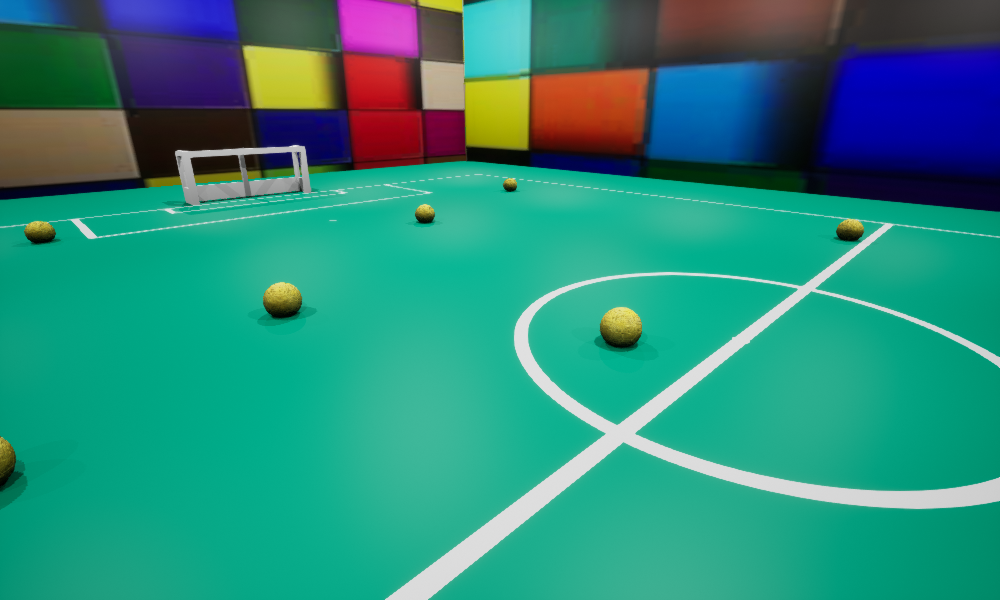b: (600, 307, 641, 347), (263, 282, 301, 316), (0, 436, 15, 486), (24, 221, 55, 242), (836, 219, 863, 240), (415, 204, 434, 222), (503, 178, 516, 190)
g: (175, 145, 310, 204)
